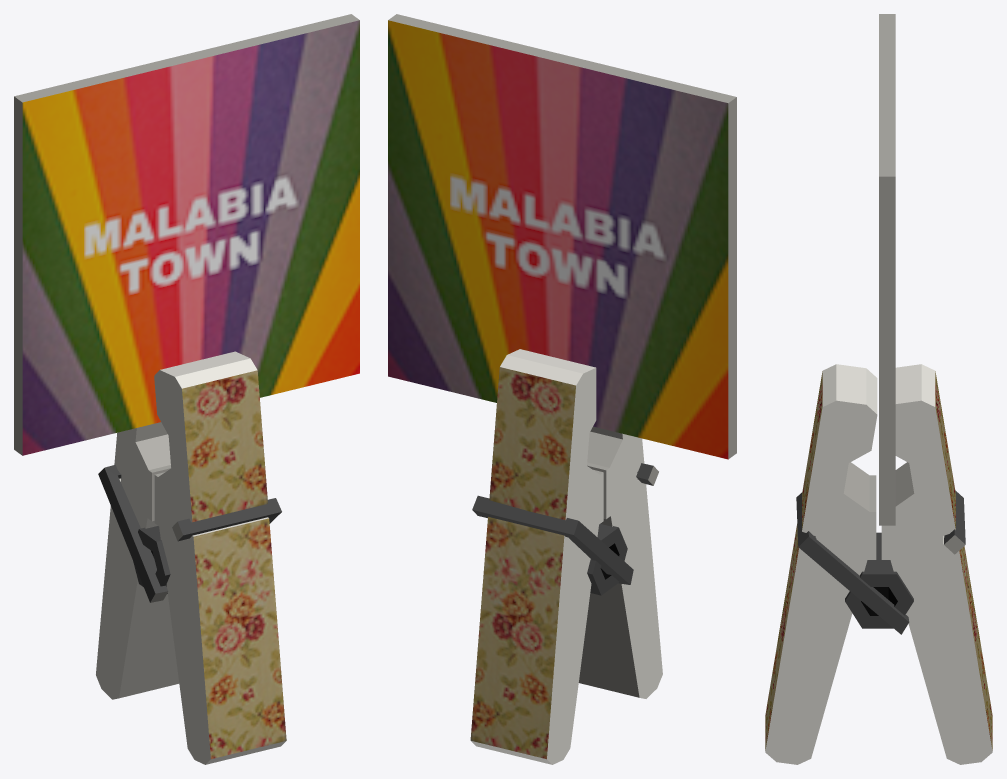
Rendered from broche_malabia.gltf.
3 views of the same model, side by side, from view 1: azimuth 30°, elevation 25°; view 2: azimuth 150°, elevation 25°; view 3: azimuth 270°, elevation 25° (orthographic). The views are drawn at different scales.
Parts seen in each view (by area): view 1: Broche_Malabia; view 2: Broche_Malabia; view 3: Broche_Malabia.
Part boxes in pixels (<box>): Broche_Malabia: <box>14,14,359,764</box>; Broche_Malabia: <box>388,14,736,764</box>; Broche_Malabia: <box>765,14,992,764</box>.
Bounding box in the file's own units: 0.1511 × 0.282 × 0.0893.
1 material, 1 textured.
